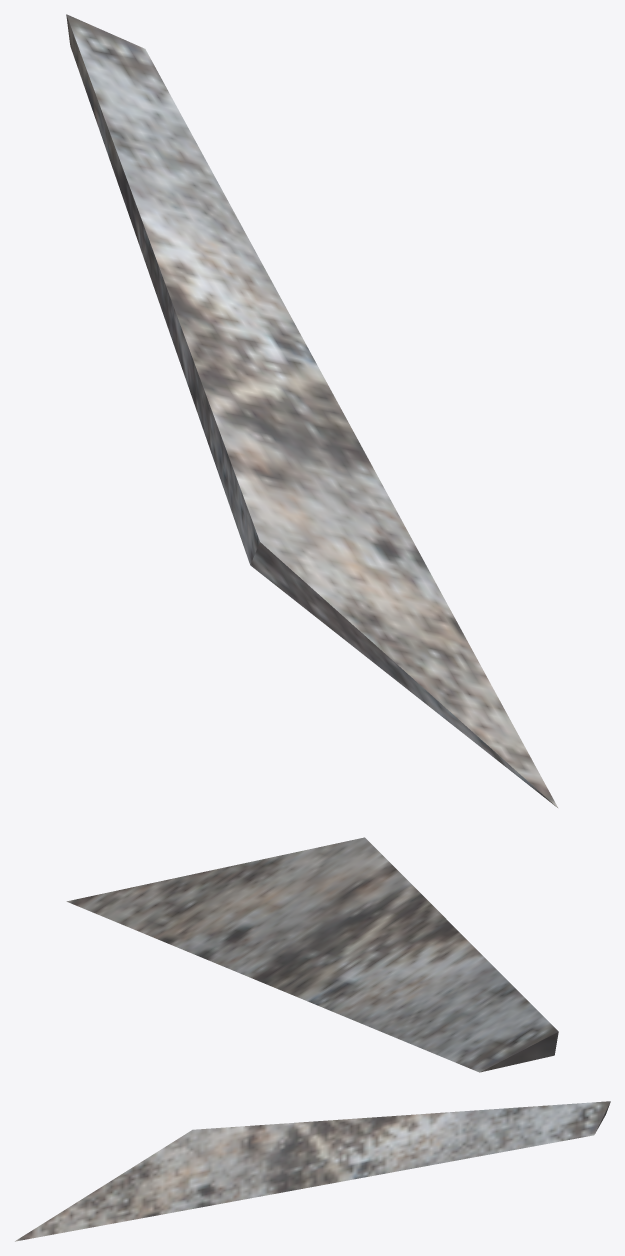
Rendered from Asteroid_Large_001_02_001_03_030.fbx.
3 views of the same model, one above another, from view 1: azimuth 30°, elevation 25°; view 2: azimuth 210°, elevation 25°; view 3: azimuth 270°, elevation 25° (orthographic). The views are drawn at different scales.
Visible parts, largest first — view 1: Asteroid_Large_001_02_001_03_030; view 2: Asteroid_Large_001_02_001_03_030; view 3: Asteroid_Large_001_02_001_03_030.
Boxes of the visible parts, <box> form: Asteroid_Large_001_02_001_03_030: <box>66,14,558,808</box>; Asteroid_Large_001_02_001_03_030: <box>66,837,558,1072</box>; Asteroid_Large_001_02_001_03_030: <box>15,1101,610,1241</box>.
Bounding box in the file's own units: 2.12 × 2.34 × 7.63.
